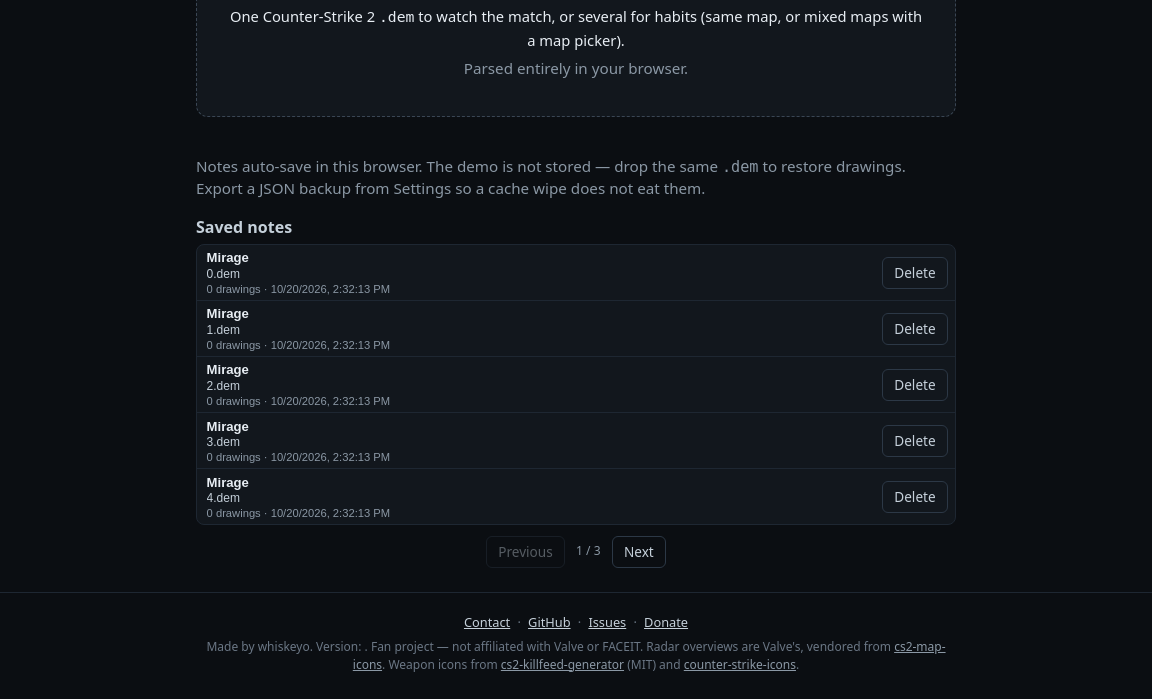
DropZone › paginates saved notes five at a time
The image size is (1152, 699).
(page scrolled)
Check: the text "0.dem" is shown, box [207,267,240,281]
Check: the text "5.dem" is not shown
What coordinates should you click on to do the following:
click the button "Next"
I would click on:
 (639, 552)
Its box is [612,536,666,568].
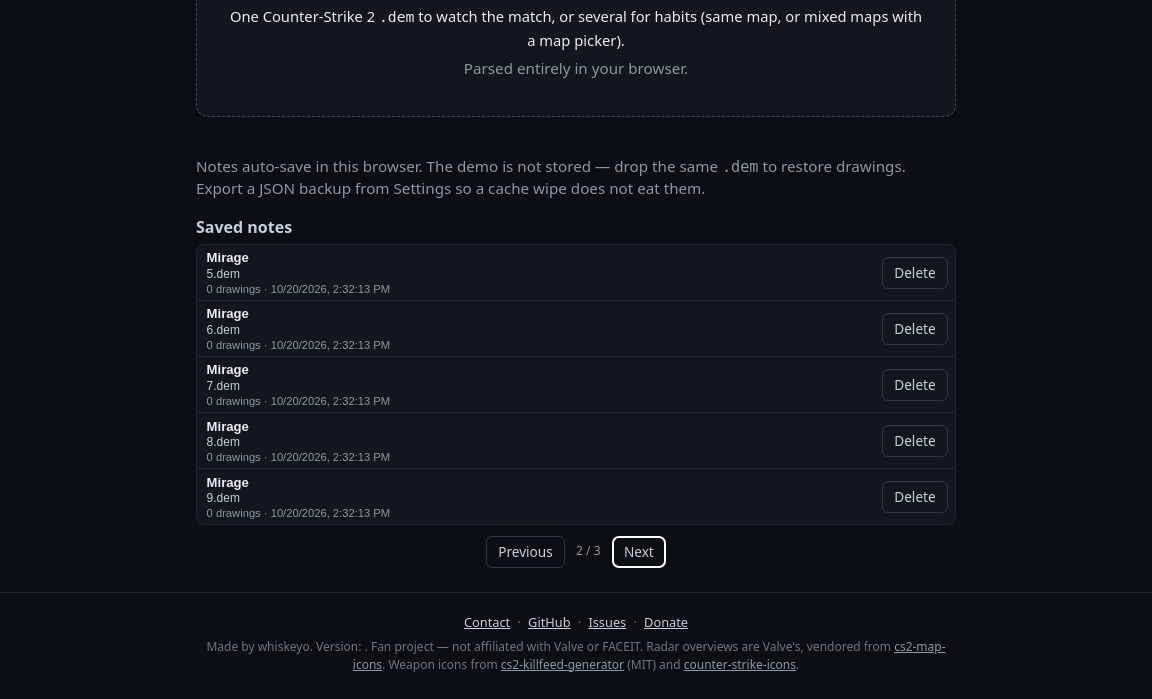
Check: the text "5.dem" is shown, box [207,267,240,281]
Check: the button "0.dem" is gone
Check: the text "2 / 3" is shown, box [576,543,601,560]
